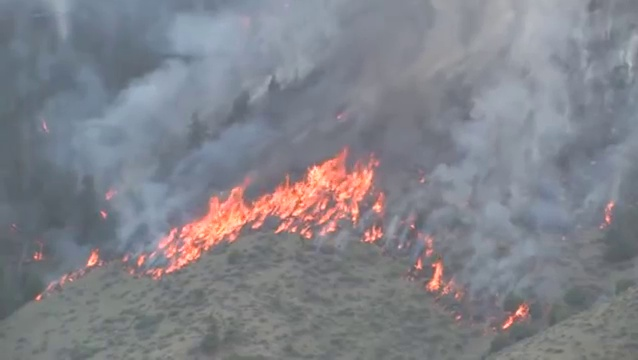fire: (165, 155, 380, 267), (428, 262, 441, 291)
